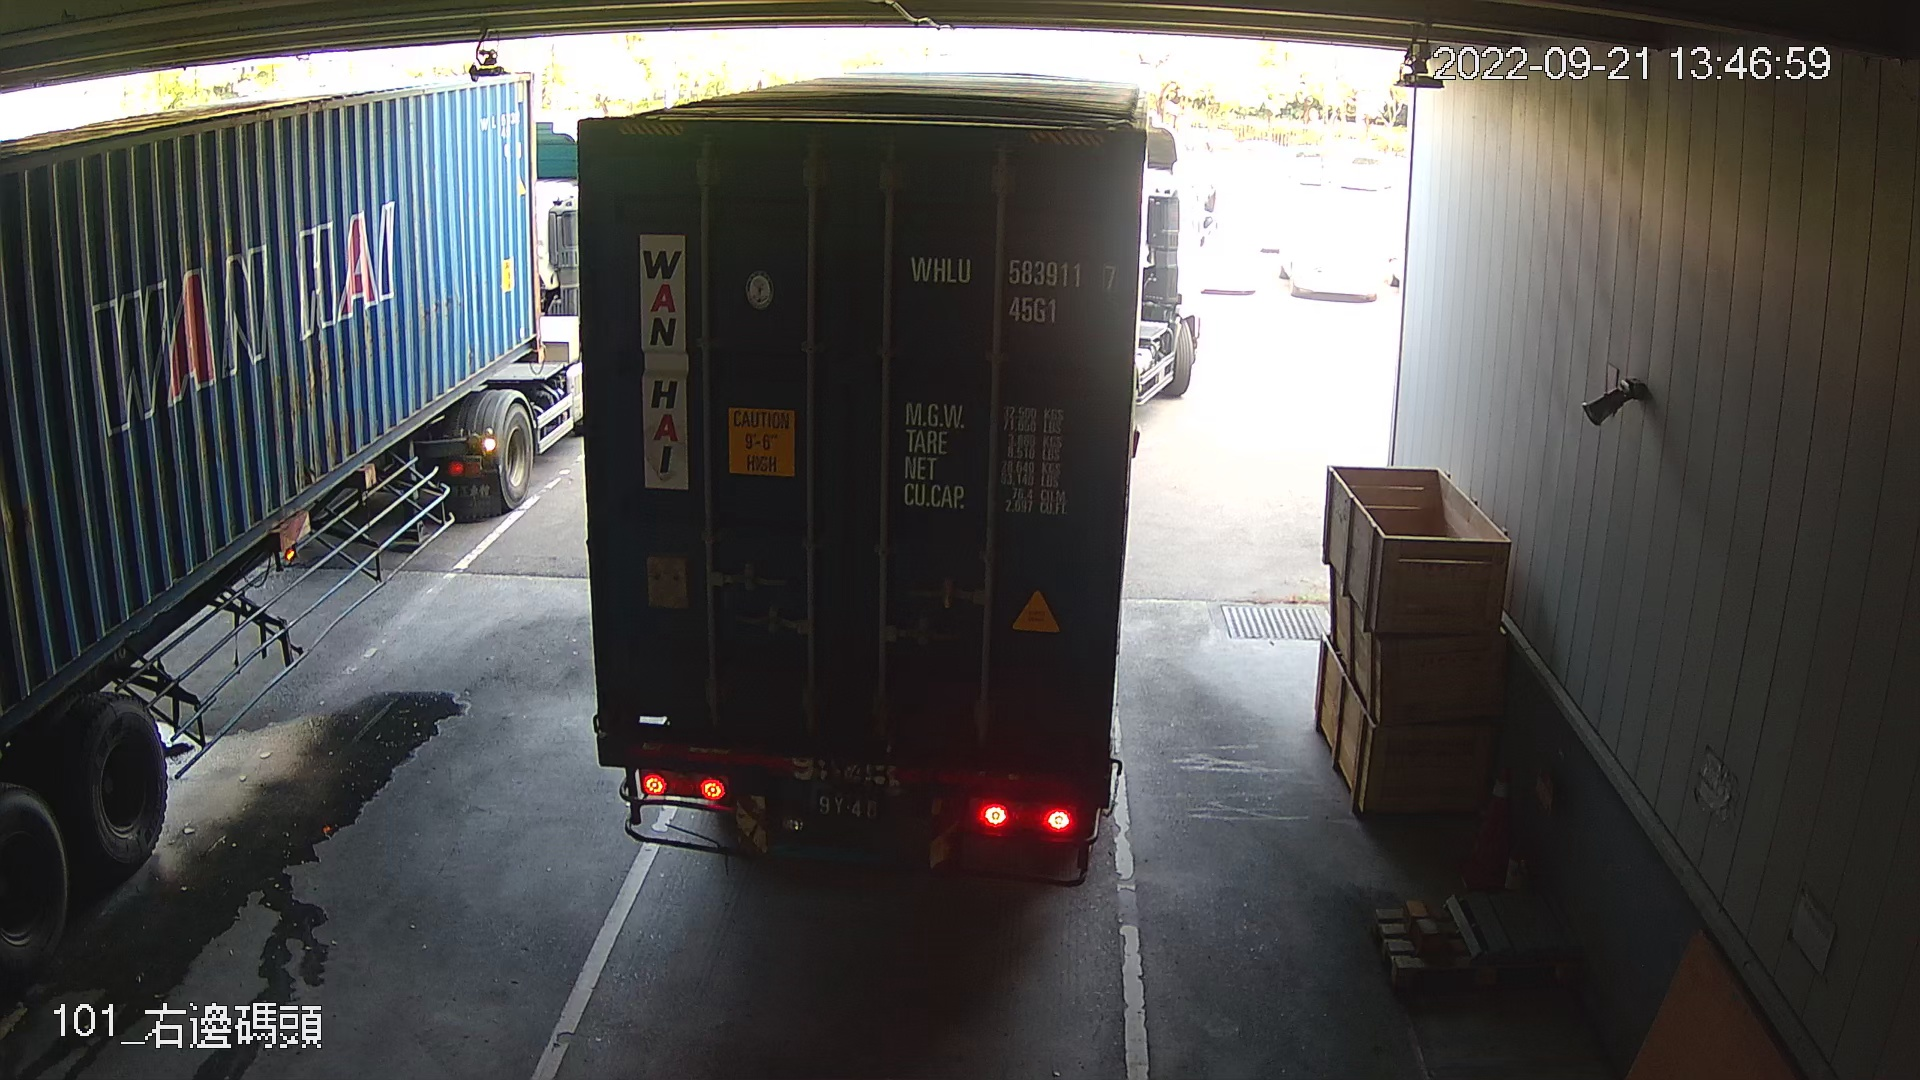container: (897, 245, 1129, 332)
